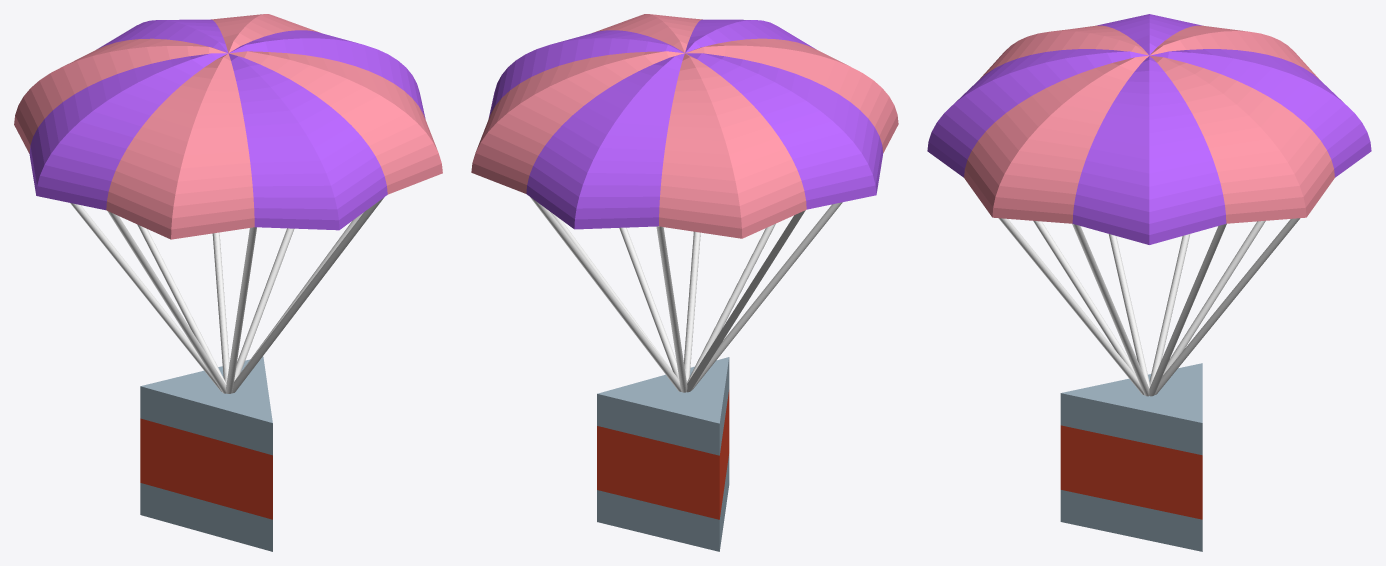
File: ParachuteShields.dae
The picture shows the model from 3 angles, left to right: view 1: azimuth 30°, elevation 25°; view 2: azimuth 150°, elevation 25°; view 3: azimuth 270°, elevation 25°; orthographic projection.
Parts seen in each view (by area): view 1: Sphere.001; view 2: Sphere.001; view 3: Sphere.001.
Boxes of the visible parts, <box> form: Sphere.001: <box>14,14,442,551</box>; Sphere.001: <box>471,14,898,551</box>; Sphere.001: <box>927,14,1371,551</box>.
Bounding box in the file's own units: 25 × 25 × 29.22.
